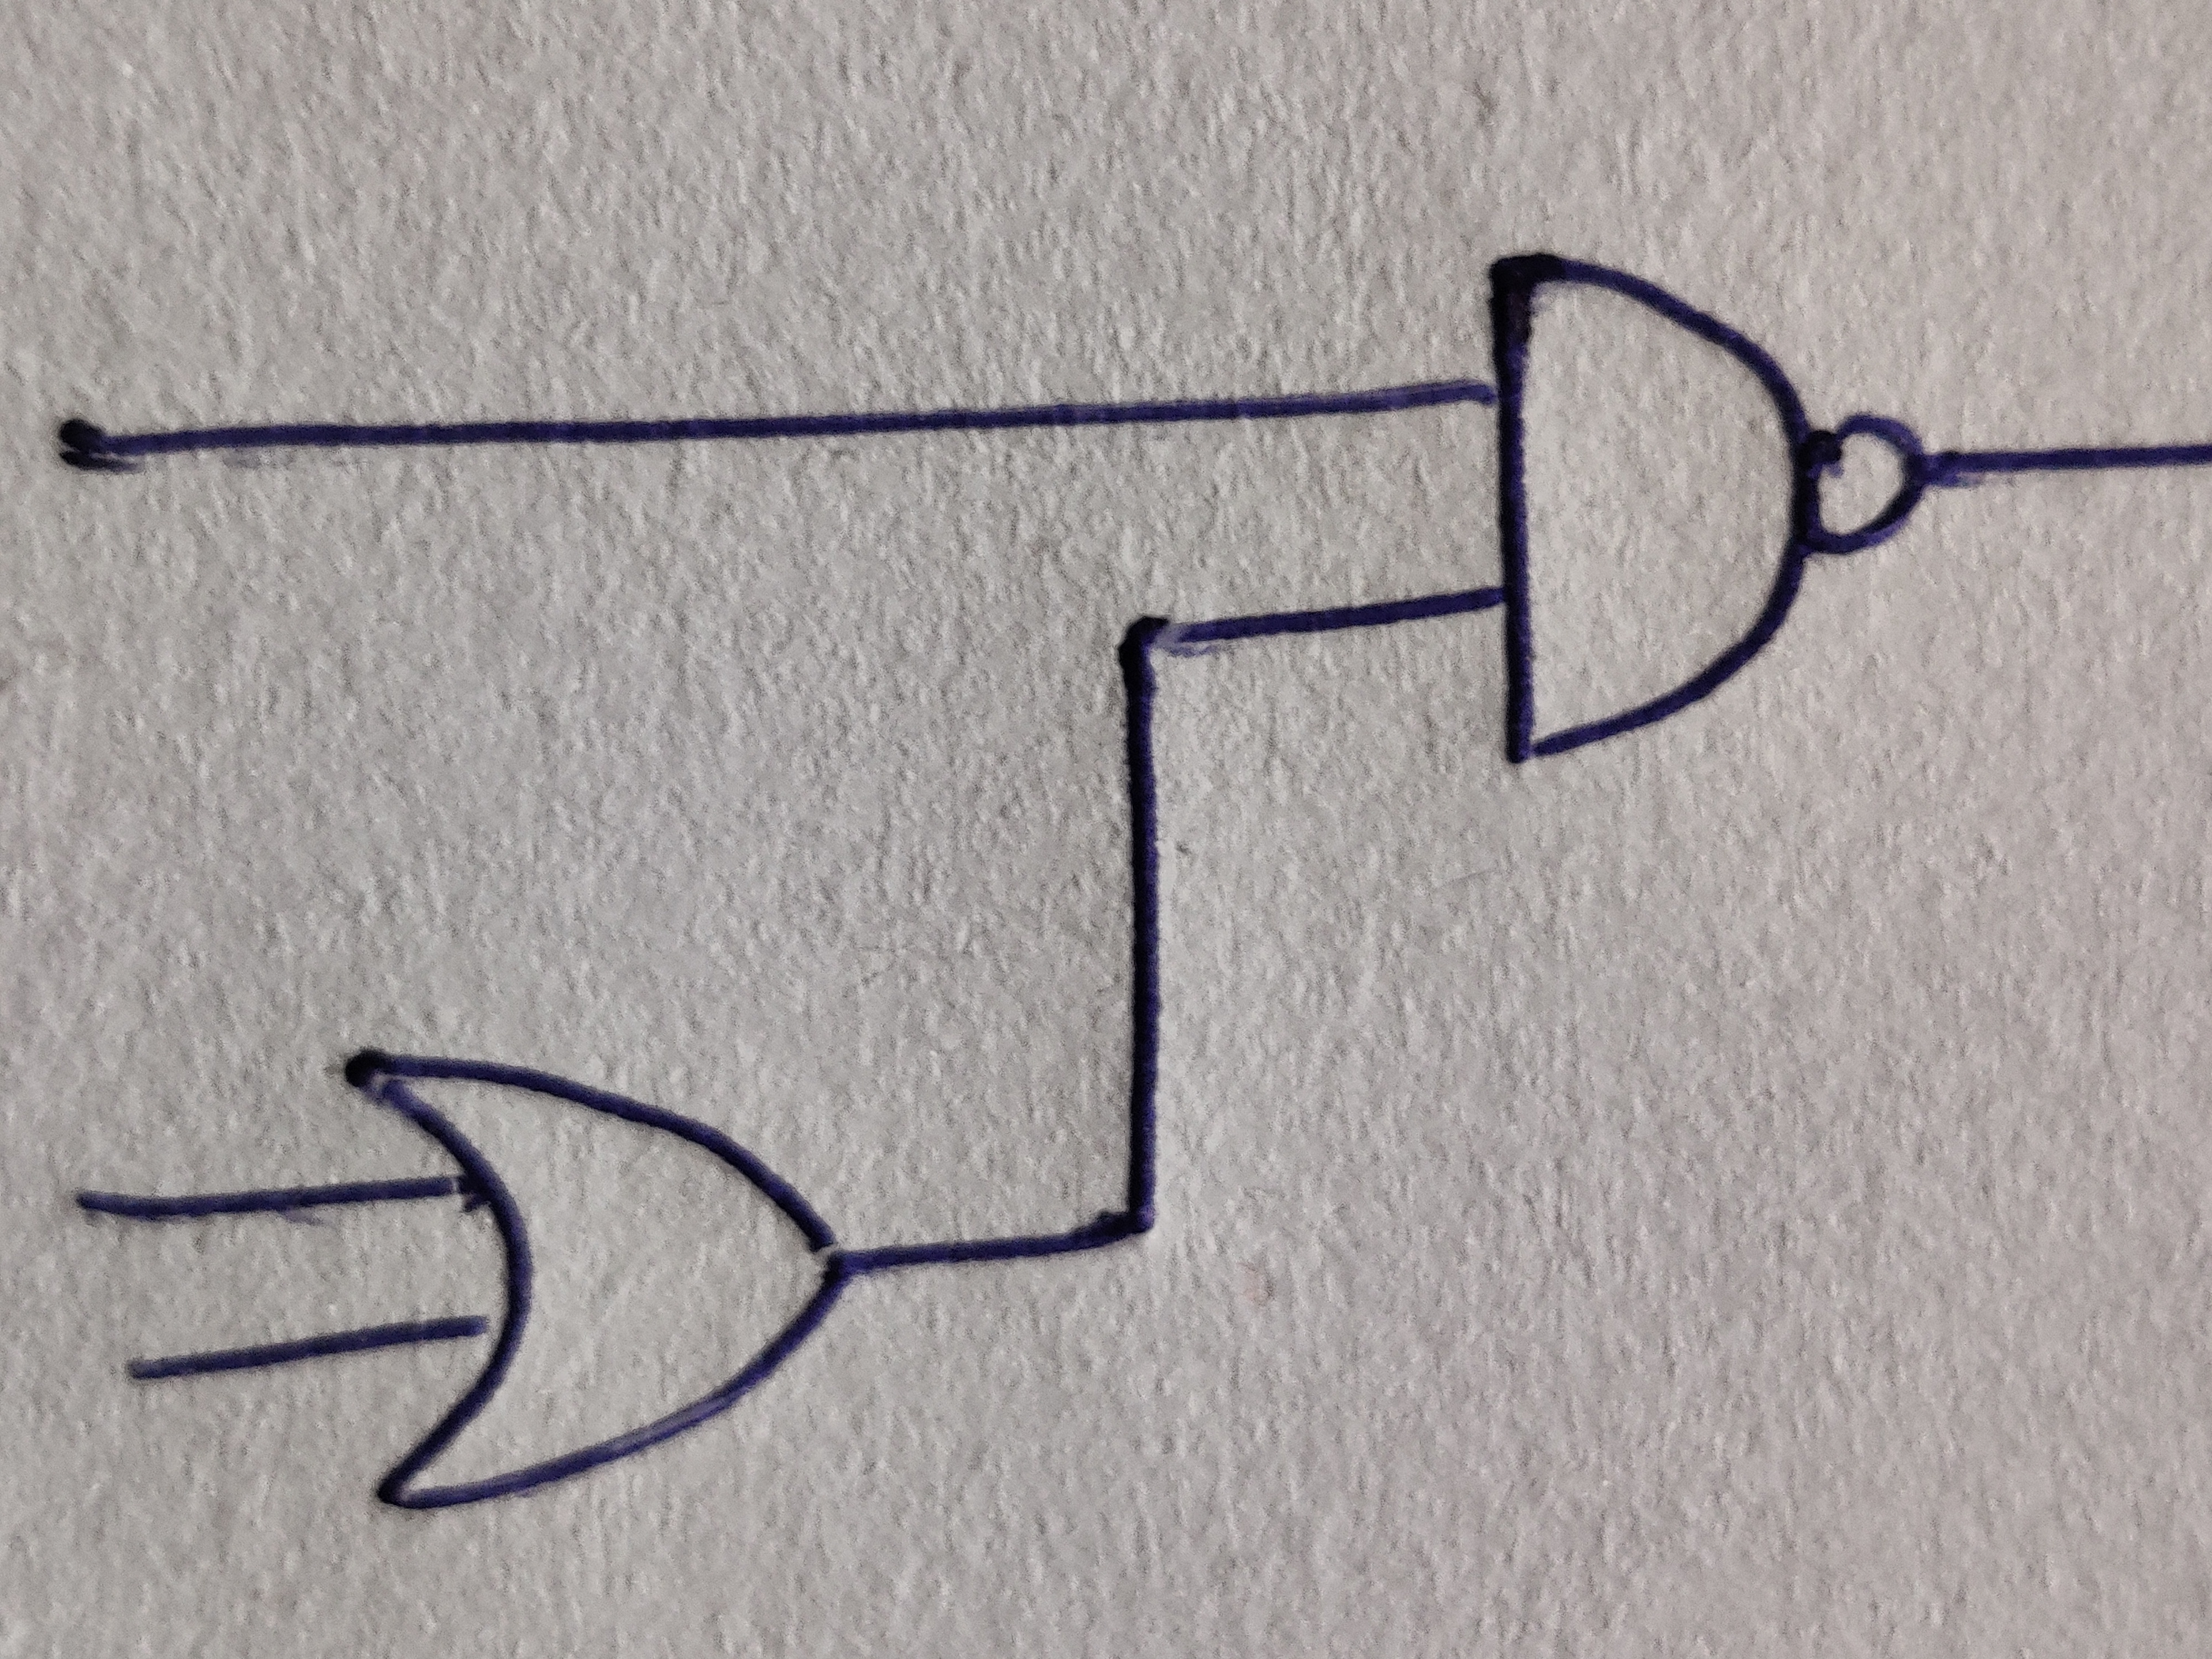and: (1487, 254, 1820, 765)
not: (1801, 416, 1926, 556)
or: (345, 1049, 852, 1511)
